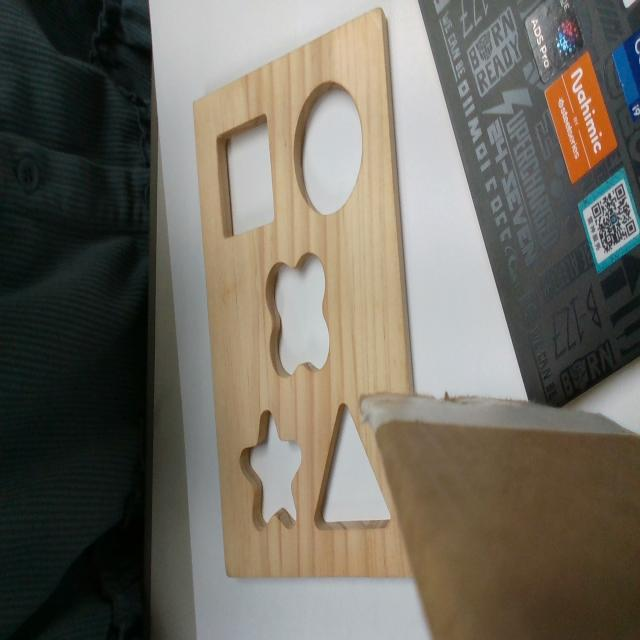circle: (294, 83, 363, 212)
flower: (266, 255, 329, 379)
square: (215, 111, 276, 239), (239, 408, 300, 533)
triangle: (312, 403, 393, 533)
